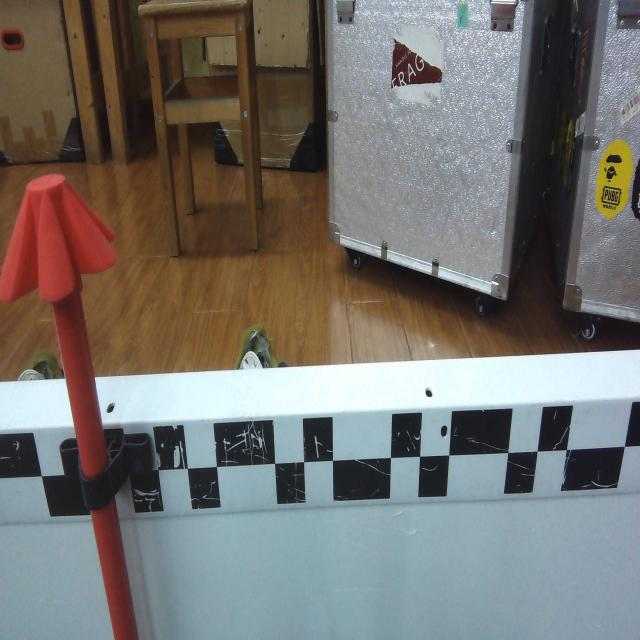zred-Stake-Head: (0, 173, 118, 304)
